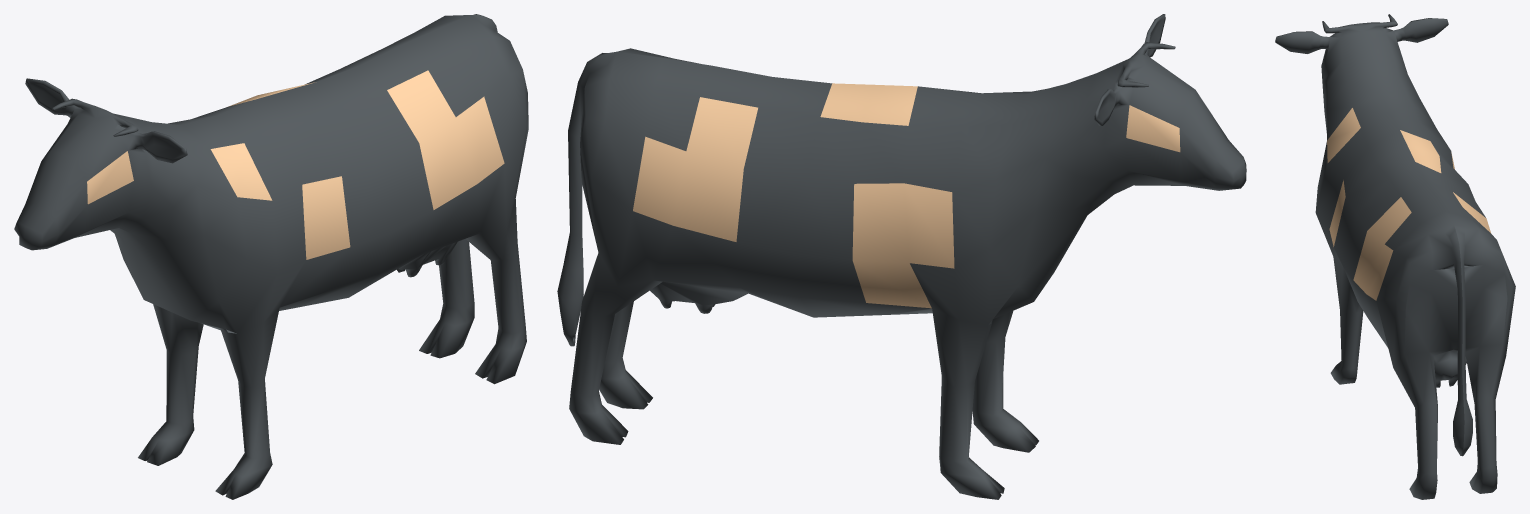
File: ToyObject_075.fbx
3 renders of one model, left to right at view 1: azimuth 30°, elevation 25°; view 2: azimuth 150°, elevation 25°; view 3: azimuth 270°, elevation 25°, orthographic. The views are drawn at different scales.
Parts seen in each view (by area): view 1: 1.023; view 2: 1.023; view 3: 1.023.
Boxes of the visible parts, x1,y1,x2,y2 form: 1.023: (14,14,528,499); 1.023: (557,14,1246,499); 1.023: (1275,14,1515,499).
Size of the model in its own units: 0.2837 by 0.1914 by 0.1353.
